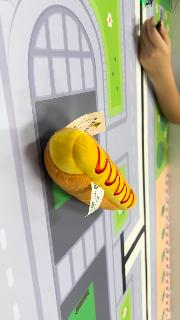hotdog: (45, 129, 138, 211)
